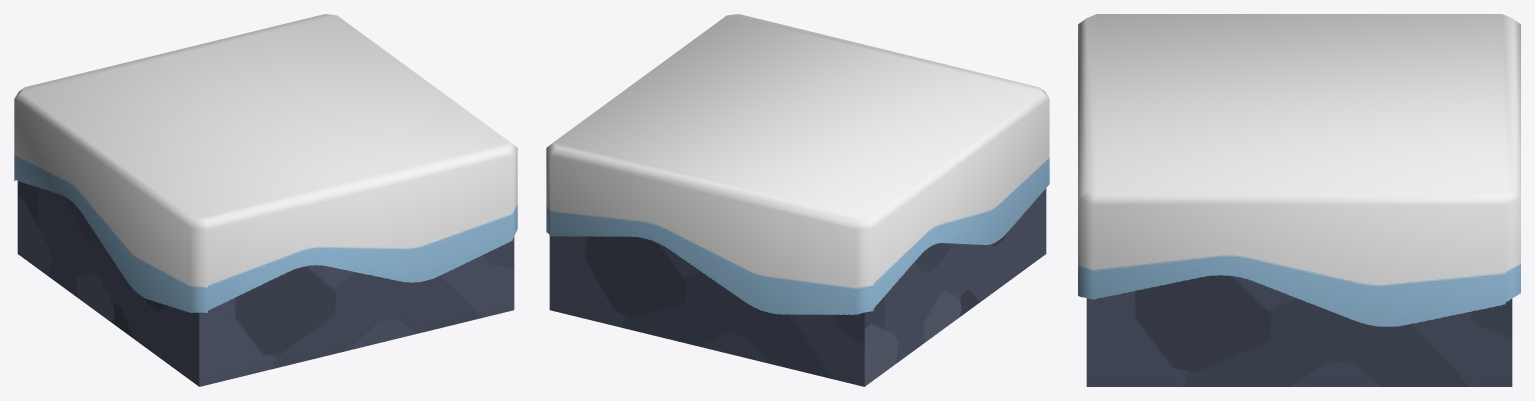
Rendered from rock.glb.
3 views of the same model, side by side, from view 1: azimuth 30°, elevation 25°; view 2: azimuth 150°, elevation 25°; view 3: azimuth 270°, elevation 25° (orthographic). The views are drawn at different scales.
Parts seen in each view (by area): view 1: _2x2x1_snowRock__1_.1_0; view 2: _2x2x1_snowRock__1_.1_0; view 3: _2x2x1_snowRock__1_.1_0.
Boxes of the visible parts, bbox=[...] form: _2x2x1_snowRock__1_.1_0: bbox=[14, 14, 517, 386]; _2x2x1_snowRock__1_.1_0: bbox=[546, 14, 1049, 386]; _2x2x1_snowRock__1_.1_0: bbox=[1078, 14, 1520, 386].
Bounding box in the file's own units: 104 × 50 × 104.
2 materials, 2 textured.
